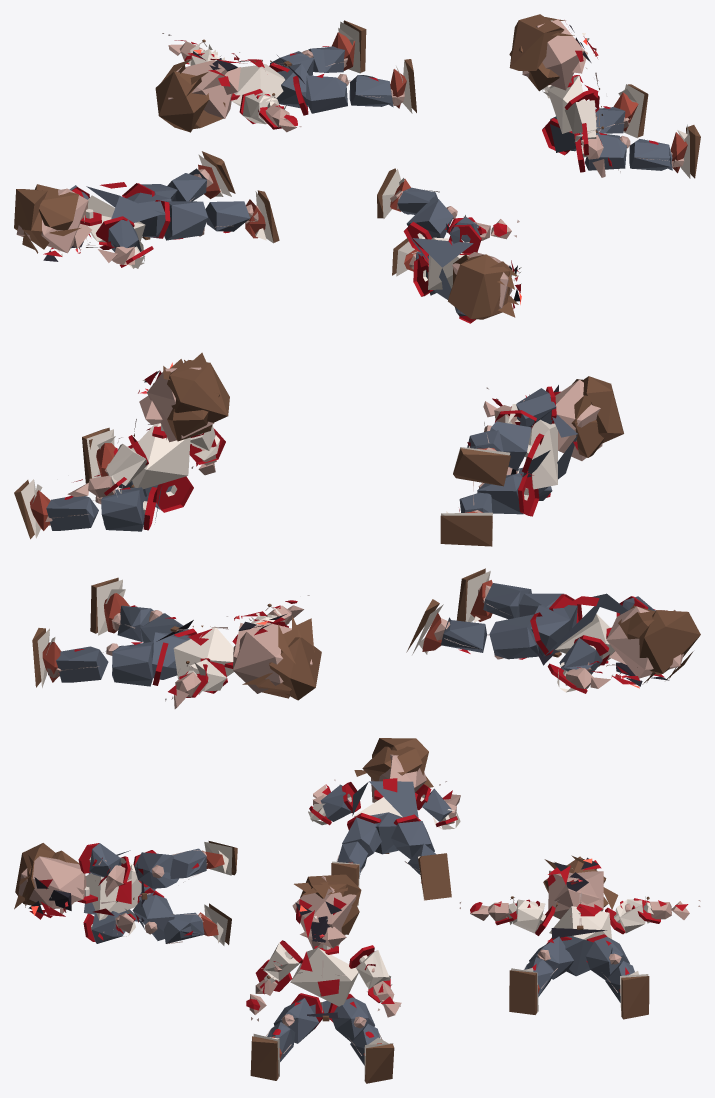
Rendered from inf.corpse-poses.lod1.glb.
3 views of the same model, one above another, from view 1: azimuth 30°, elevation 25°; view 2: azimuth 150°, elevation 25°; view 3: azimuth 270°, elevation 25° (orthographic). The views are drawn at different scales.
Visible parts, largest first — view 1: onBack__head, sitting__head, head, curled__head, torso, curled__torso, onBack__legR, legL, onBack__torso, onBack__footL, sitting__footL, onBack__shinR (+23 smaller); view 2: onBack__head, sitting__head, head, curled__head, sitting__torso, curled__torso, onBack__torso, torso, curled__footL, curled__footR, onBack__legL, sitting__legL (+26 smaller); view 3: curled__head, sitting__head, onBack__head, head, sitting__torso, curled__torso, torso, onBack__torso, footR, onBack__footR, onBack__footL, sitting__footR (+26 smaller).
Boxes of the visible parts, x1,y1,x2,y2 form: onBack__head: (155,49,240,132); sitting__head: (509,14,598,91); head: (14,184,91,261); curled__head: (448,252,521,319); torso: (86,182,162,251); curled__torso: (413,223,473,299); onBack__legR: (306,74,349,113); legL: (164,201,207,240); onBack__torso: (231,52,284,106); onBack__footL: (331,20,366,73); sitting__footL: (613,84,648,138); onBack__shinR: (348,75,393,107); onBack__head: (233,611,321,700); sitting__head: (138,352,229,442); head: (606,605,700,688); curled__head: (554,376,623,460); sitting__torso: (117,419,190,489); curled__torso: (525,414,578,493); onBack__torso: (173,616,233,678); torso: (544,593,627,666); curled__footL: (453,446,510,486); curled__footR: (440,510,492,546); onBack__legL: (106,641,153,686); sitting__legL: (95,487,145,531); curled__head: (14,843,86,919); sitting__head: (292,874,361,949); onBack__head: (543,855,618,919); head: (354,738,433,802); sitting__torso: (290,948,358,1012); curled__torso: (84,850,150,924); torso: (352,778,418,817); onBack__torso: (549,892,611,939); footR: (418,853,451,900); onBack__footR: (509,968,539,1014); onBack__footL: (619,971,649,1019); sitting__footR: (250,1034,282,1080).
Bounding box in the file's own units: 5.28 × 1.35 × 5.43.
